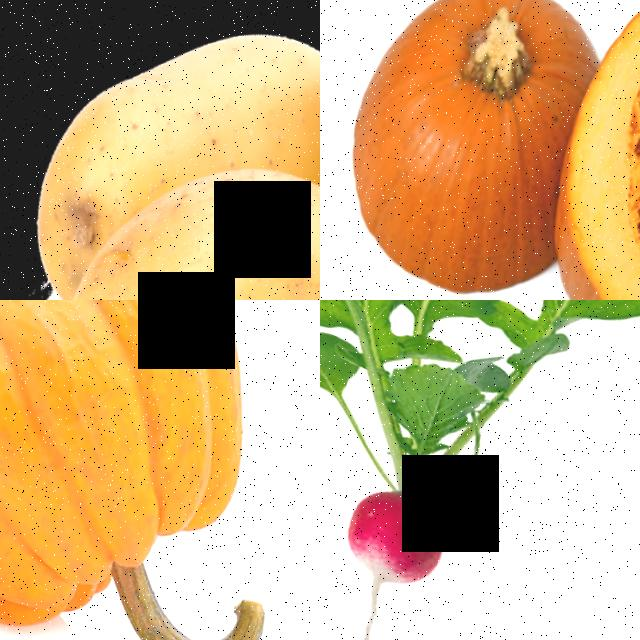potato: (0, 105, 320, 300)
pumpkin: (0, 300, 320, 640), (320, 0, 635, 300), (456, 0, 640, 300)
radishes: (320, 383, 498, 613)
